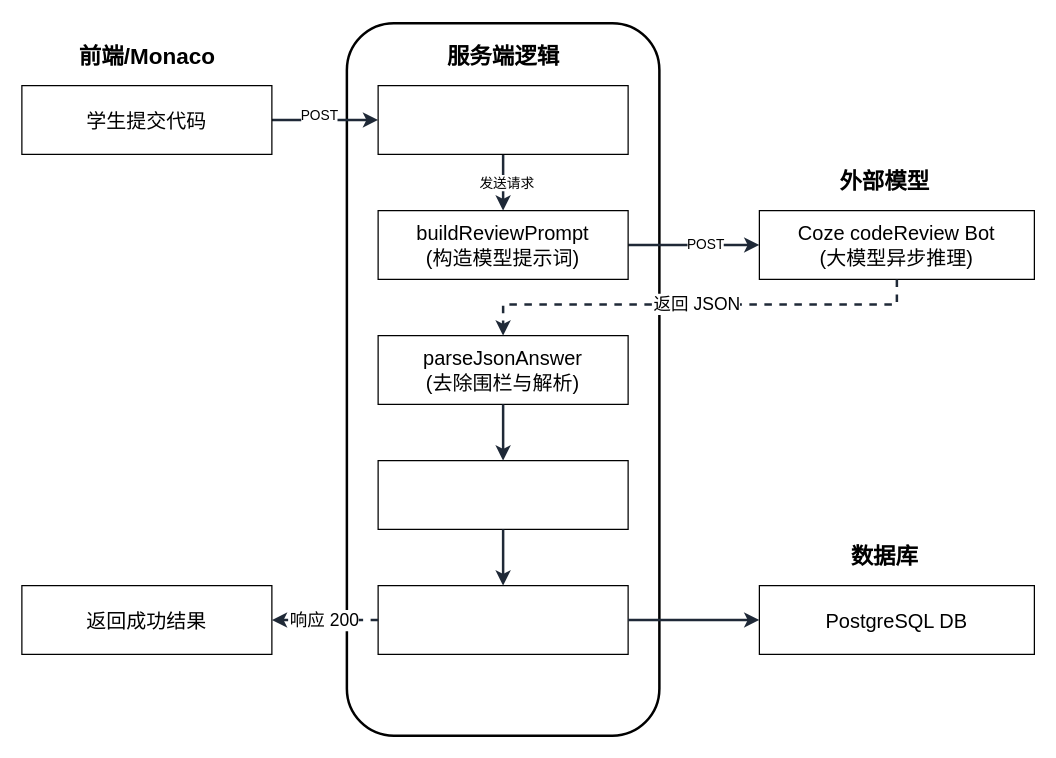
The diagram is 1056 pixels wide and 758 high, and some of its shapes have lost their labels. Each missing label, with the box of its shape:
API Code Submit (解析请求): (377, 84, 628, 154)
更新 CapabilityRadar (加权平滑更新): (377, 459, 628, 529)
落库保存 Submission 关联当前 User: (377, 584, 628, 654)
